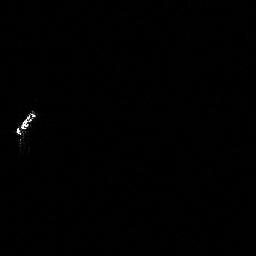ship: (14, 109, 37, 148)
